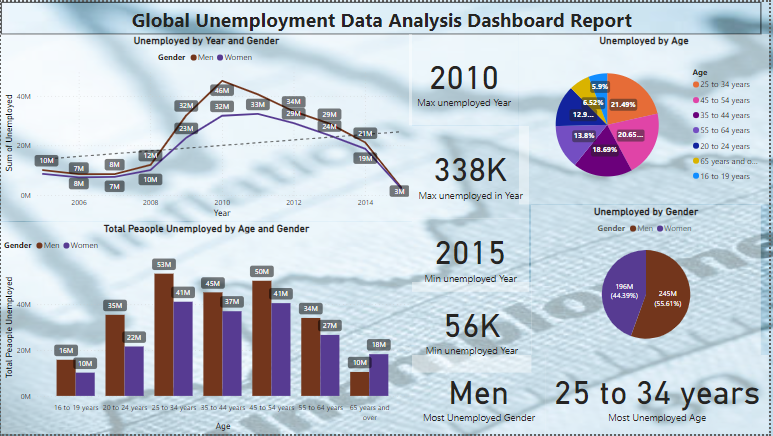

Layout of this report page (visuals, bound fields, positions):
{"tool":"powerbi","page":{"name":"Page 3","canvas":[1280,720],"ordinal":0},"visuals":[{"type":"textbox","box":[0,0,1267.3,54.1],"z":0},{"type":"clusteredColumnChart","fields":{"Category":["Data.Age"],"Y":["Sum(Data.Unemployed)"],"Series":["Data.Gender"]},"box":[0,365.9,684.9,354.1],"z":1},{"type":"pieChart","fields":{"Category":["Data.Gender"],"Y":["Sum(Data.Unemployed)"]},"box":[883.9,338,383.4,250.2],"z":2},{"type":"pieChart","title":"Unemployed by Age","fields":{"Category":["Data.Age"],"Y":["Sum(Data.Unemployed)"]},"box":[863.4,54.1,417.1,283.9],"z":3},{"type":"lineChart","title":"Unemployed by Year and Gender","fields":{"Category":["Data.Year"],"Y":["Sum(Data.Unemployed)"],"Series":["Data.Gender"]},"box":[0,54.1,684.9,311.7],"z":4},{"type":"card","fields":{"Values":["Min(Data.Age)"]},"box":[907.3,588.3,373.2,131.7],"z":5},{"type":"card","fields":{"Values":["Min(Data.Gender)"]},"box":[684.9,588.3,222.4,131.7],"z":6},{"type":"card","fields":{"Values":["Min(Data.Year)"]},"box":[680.5,54.1,182.9,152.2],"z":7},{"type":"card","fields":{"Values":["Sum(Data.Year)"]},"box":[684.9,206.3,194.6,153.7],"z":8},{"type":"card","fields":{"Values":["Min(Data.Year)"]},"box":[684.9,360,194.6,122.9],"z":9},{"type":"card","fields":{"Values":["Sum(Data.Year)"]},"box":[684.9,466.8,199,150.7],"z":10}]}

Visuals, with their boxes in screenshot pixels (x1, y1, x2, y2), scaled from the page's 1280x720 canvas onto the 773x436 screenshot:
textbox: x1=0 y1=0 x2=765 y2=33
clusteredColumnChart - Data.Age x Sum(Data.Unemployed): x1=0 y1=222 x2=414 y2=435
pieChart - Data.Gender x Sum(Data.Unemployed): x1=534 y1=205 x2=765 y2=356
"Unemployed by Age" pieChart: x1=521 y1=33 x2=772 y2=205
"Unemployed by Year and Gender" lineChart: x1=0 y1=33 x2=414 y2=222
card - Min(Data.Age): x1=548 y1=356 x2=772 y2=435
card - Min(Data.Gender): x1=414 y1=356 x2=548 y2=435
card - Min(Data.Year): x1=411 y1=33 x2=521 y2=125
card - Sum(Data.Year): x1=414 y1=125 x2=531 y2=218
card - Min(Data.Year): x1=414 y1=218 x2=531 y2=292
card - Sum(Data.Year): x1=414 y1=283 x2=534 y2=374
